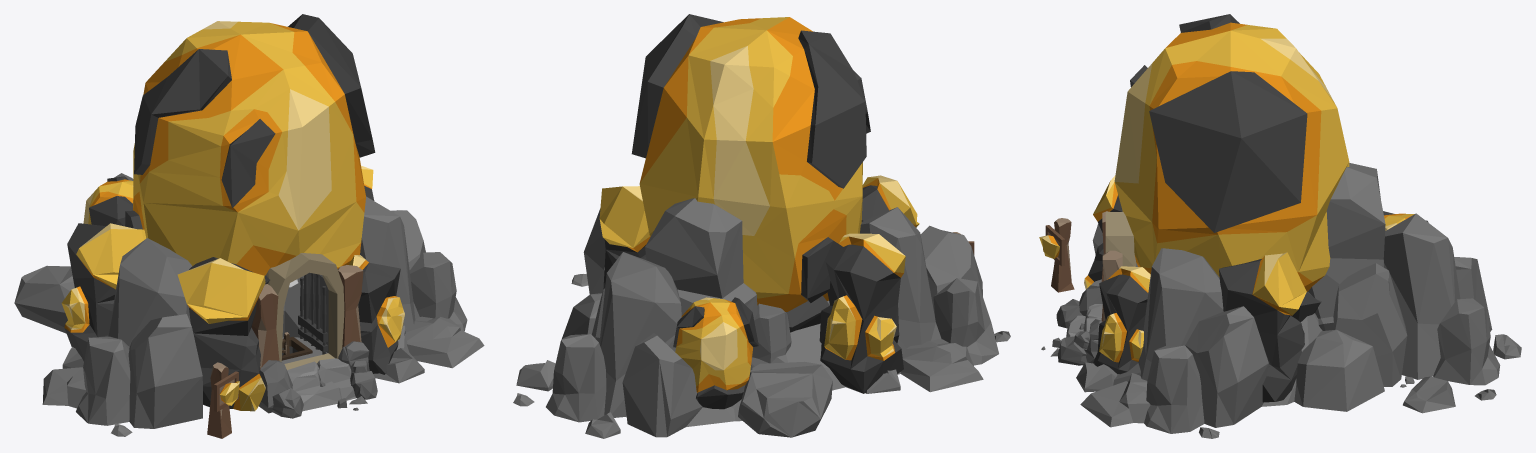
File: Mine_02.FBX
The picture shows the model from 3 angles, left to right: view 1: azimuth 30°, elevation 25°; view 2: azimuth 150°, elevation 25°; view 3: azimuth 270°, elevation 25°; orthographic projection.
Visible parts, largest first — view 1: Mine_02; view 2: Mine_02; view 3: Mine_02.
Boxes of the visible parts, box(x1,y1,x2,y2) form: Mine_02: box(14, 14, 484, 438); Mine_02: box(513, 14, 1010, 438); Mine_02: box(1039, 14, 1521, 438).
Size of the model in its own units: 17.87 by 12.81 by 18.13.
